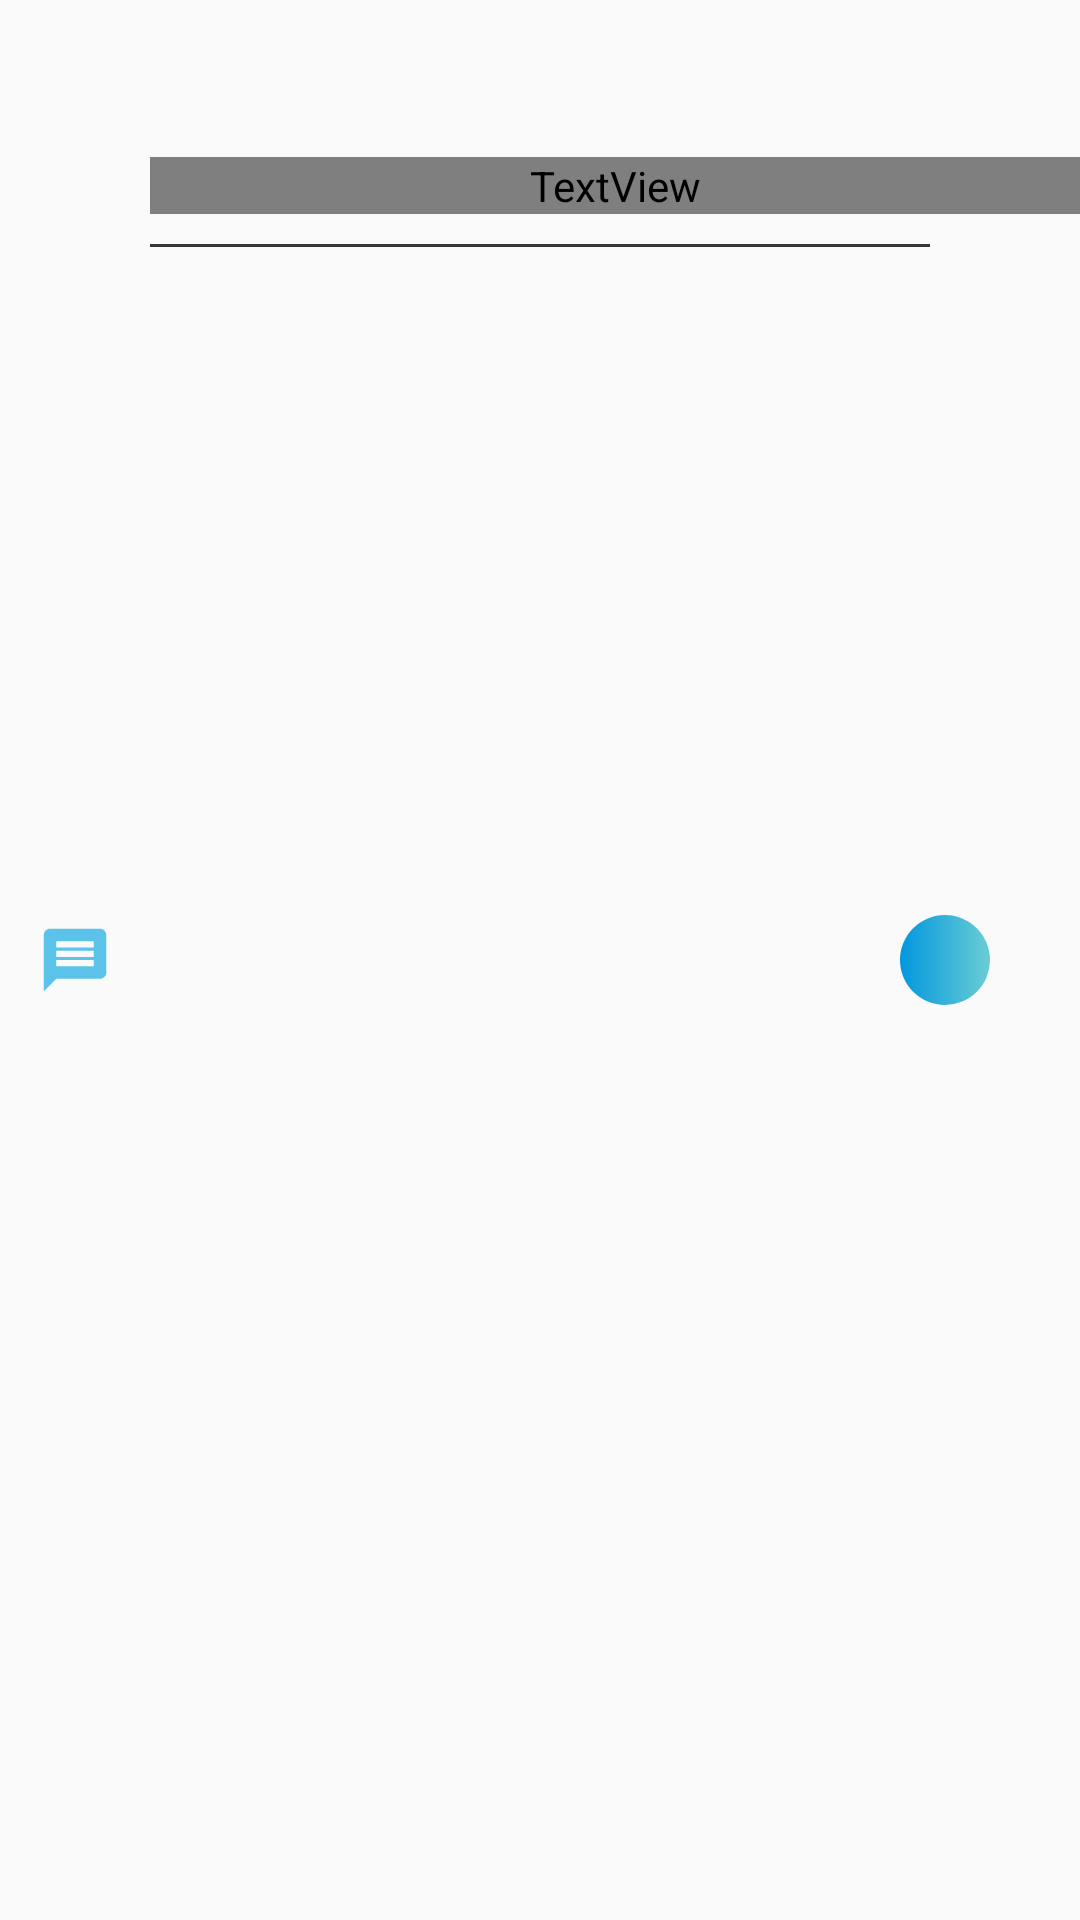

Named icons in this screenshot (1080*1920) and their centers, [x,y]:
mesage: [75,959]
